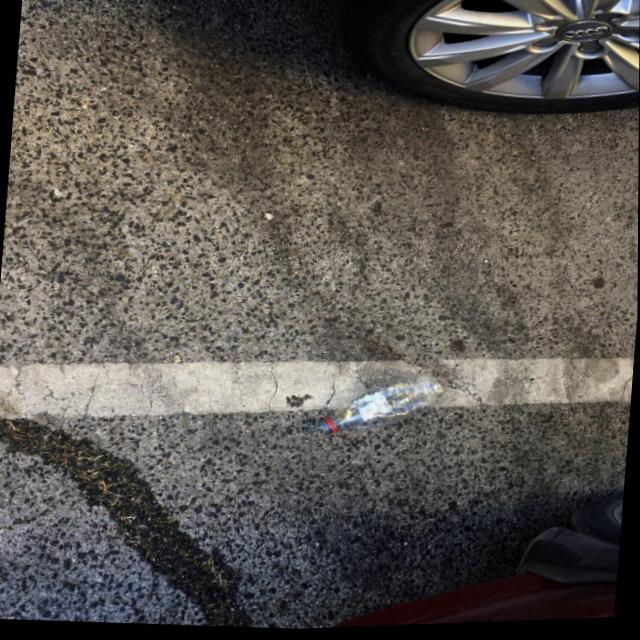Plastic: (299, 350, 478, 456)
